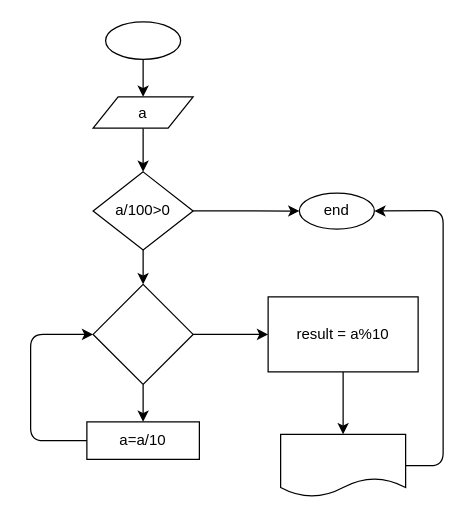
Image size: 475x519. Some labels were removed from this diagram. The centre of each missing label's shape, as x and y in pixels:
a>=100: point (142, 333)
result: point (342, 465)
start: point (142, 40)
